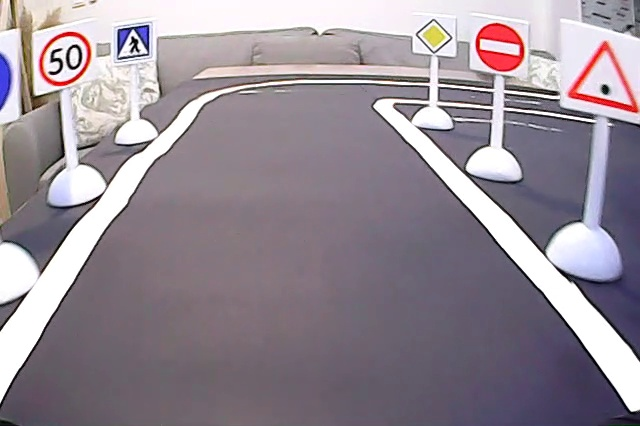do not enter: (472, 13, 530, 77)
green light: (563, 22, 639, 118)
pedestrian crossing: (114, 23, 156, 60)
speed limit 50: (32, 29, 95, 89)
